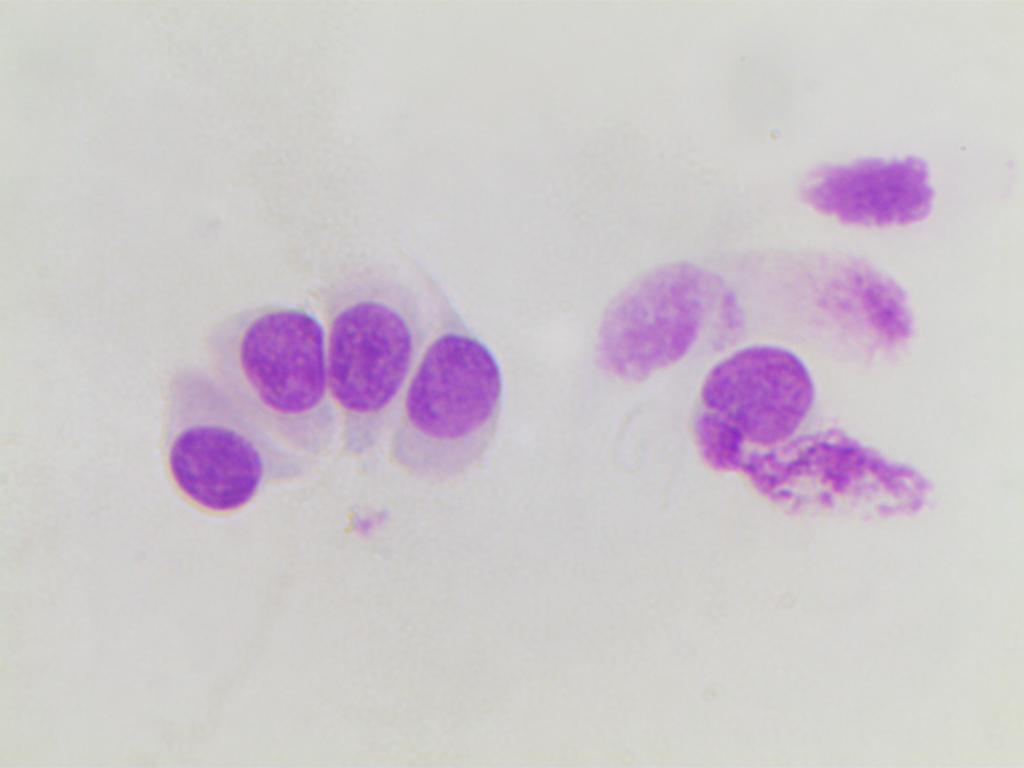epithelial: (142, 357, 301, 508), (408, 282, 512, 490), (328, 258, 413, 470), (591, 250, 726, 380), (693, 341, 820, 447), (236, 295, 329, 434)
